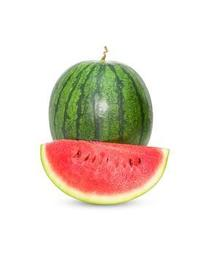watermelon: (47, 60, 151, 159), (38, 138, 170, 207)
